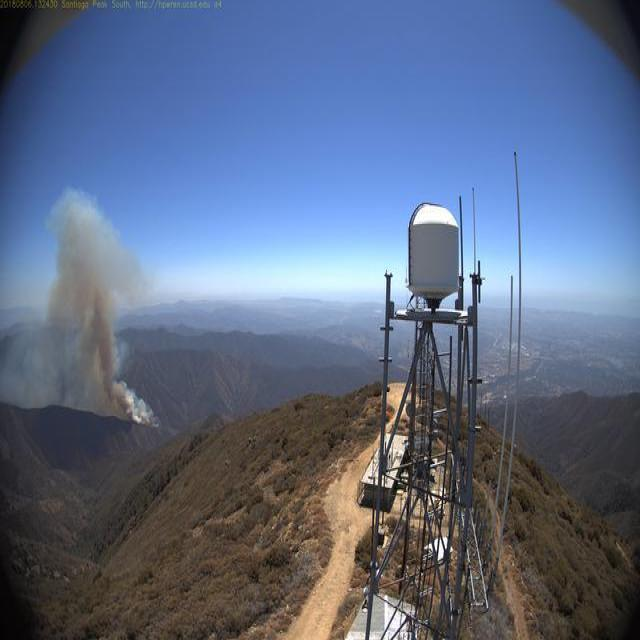smoke: (3, 190, 154, 433)
